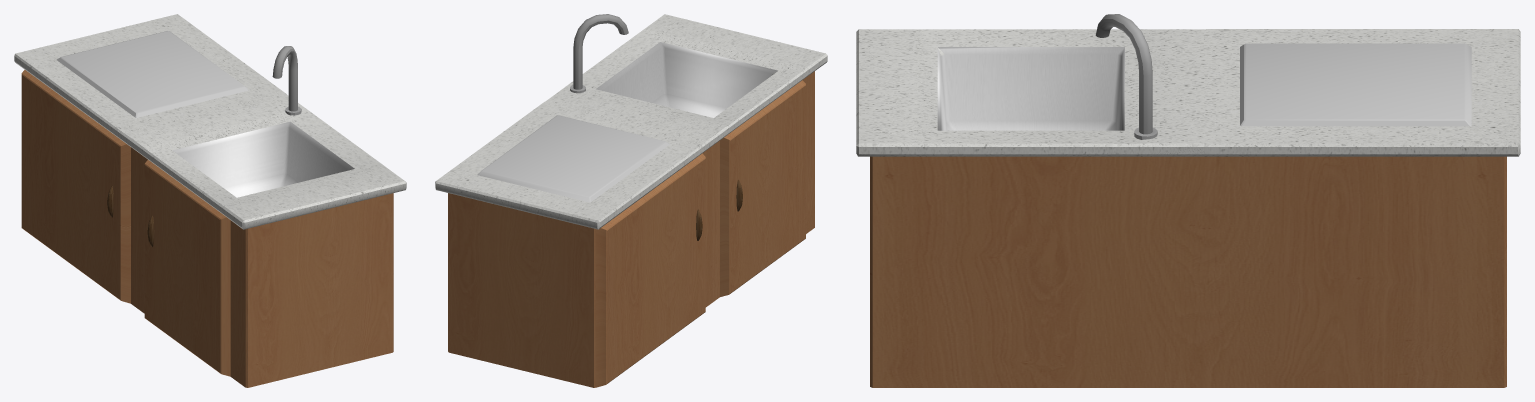
The model's file is Sink.fbx.
3 views of the same model, side by side, from view 1: azimuth 30°, elevation 25°; view 2: azimuth 150°, elevation 25°; view 3: azimuth 270°, elevation 25° (orthographic). The views are drawn at different scales.
Visible parts, largest first — view 1: Sink; view 2: Sink; view 3: Sink.
Part boxes in pixels (left/top/right/bottom): Sink: left=14, top=14, right=406, bottom=387; Sink: left=435, top=14, right=827, bottom=387; Sink: left=856, top=14, right=1520, bottom=387.
Size of the model in its own units: 6.9 by 9.54 by 16.18.
